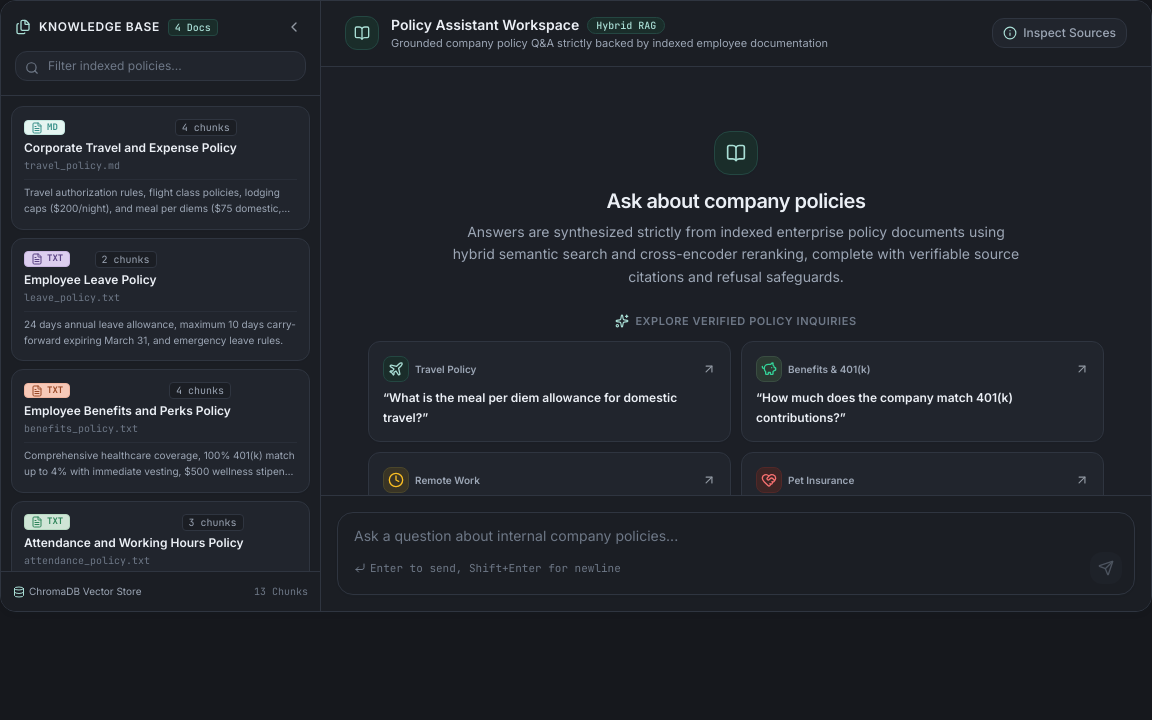
Test: PolicyChatWorkspace › sends question typed by user in composer
Step 1. Type "What is the meal allowance?" into the text box with placeholder "Ask a question about internal company policies..." → coordinates (736, 550), box [338,513,1134,588]
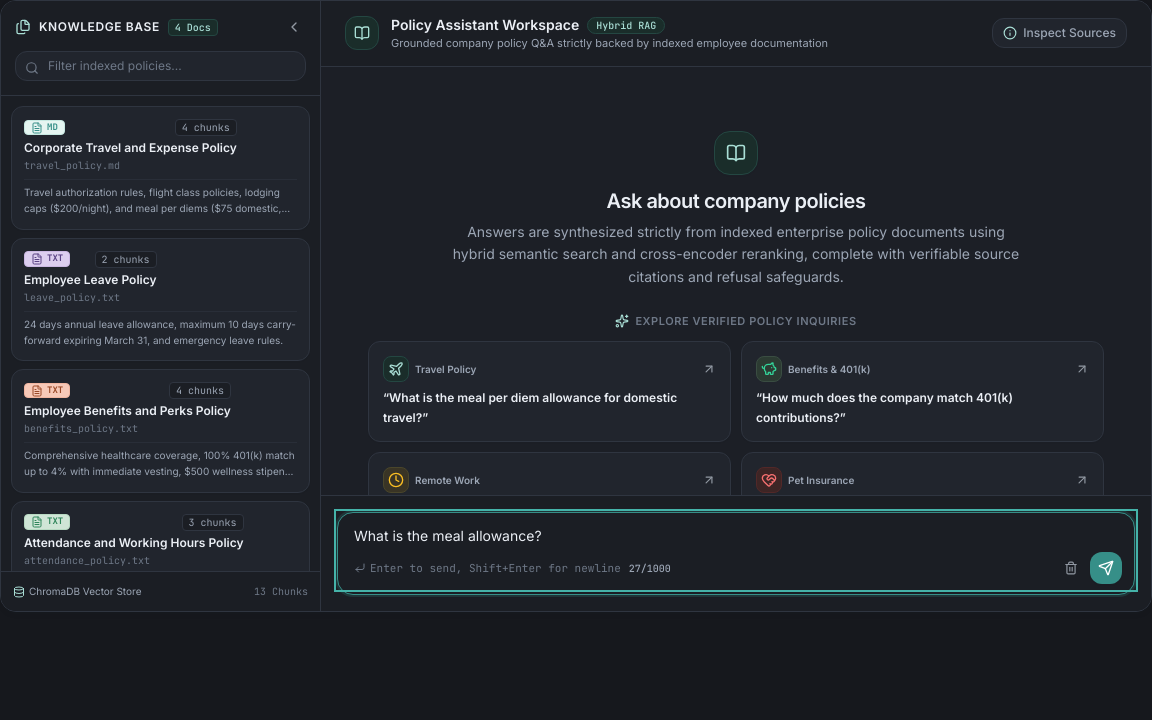
Step 2. Click the button named "send policy question" → coordinates (1106, 568), box [1090,552,1122,584]
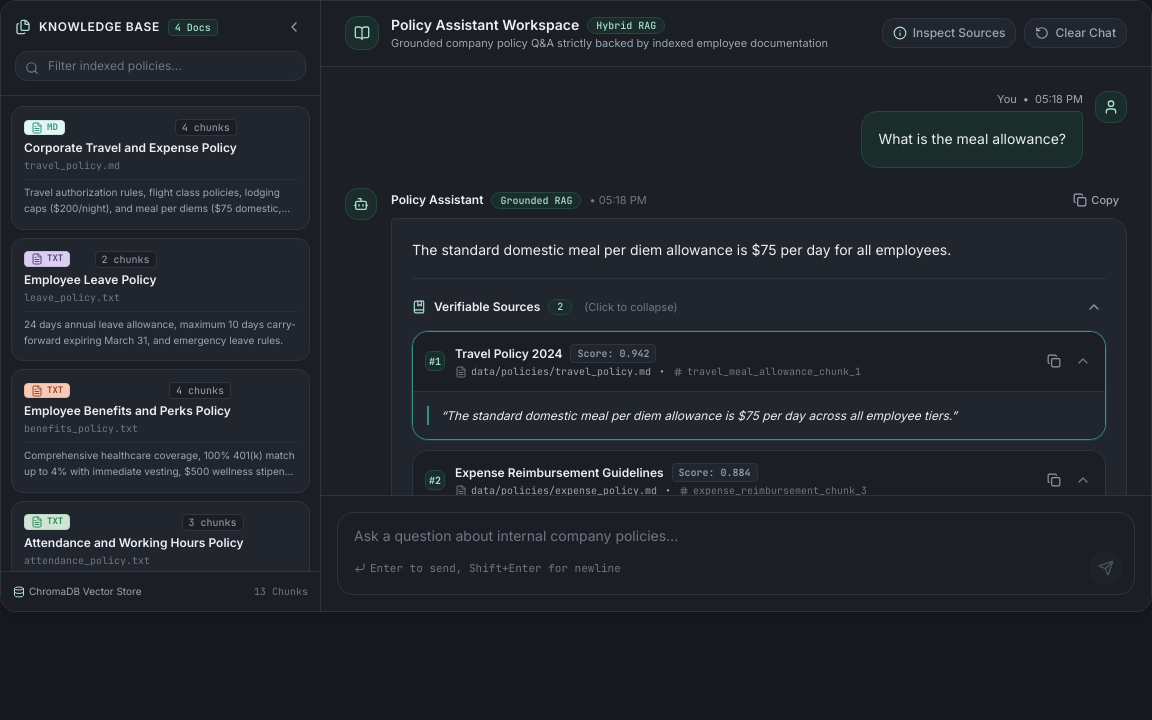
Result: the text "The standard domestic meal per diem allowance is $75 per day for all employees." is shown at [412,241,951,258]
